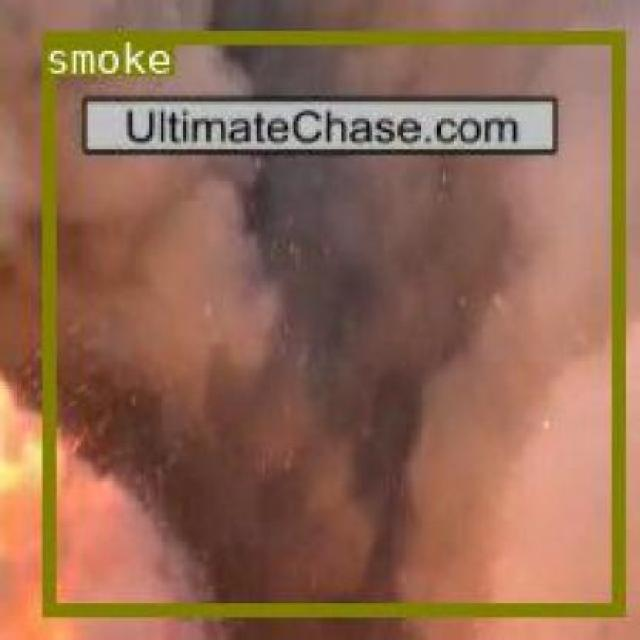Fire: (0, 392, 98, 640)
Smoke: (0, 0, 640, 640)
